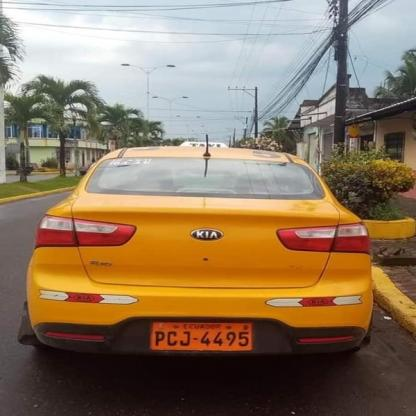Placa: (150, 320, 255, 354)
